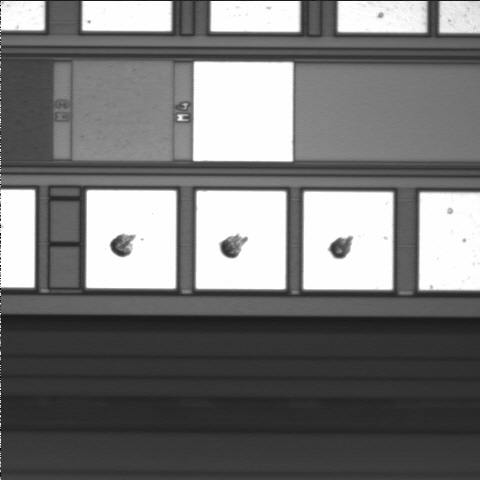pad: (193, 62, 293, 161), (86, 190, 176, 289), (196, 191, 286, 289), (303, 192, 393, 290)
